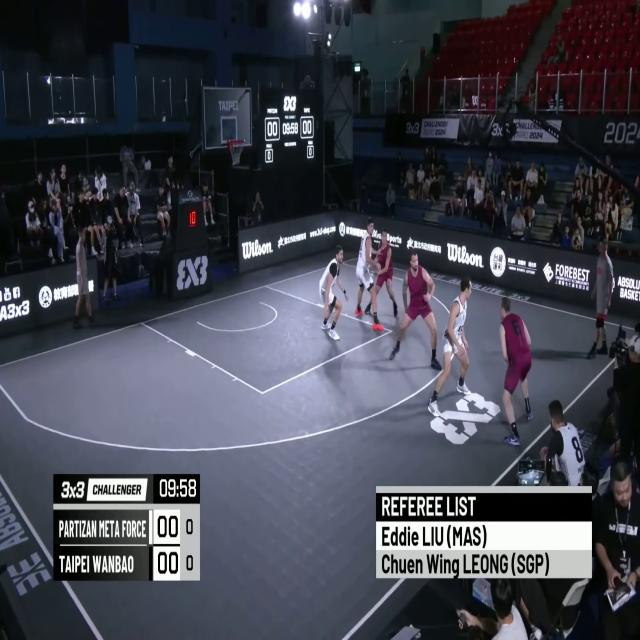hoop: (228, 137, 246, 166)
player: (428, 276, 470, 412), (498, 292, 534, 447), (398, 253, 439, 373), (371, 231, 399, 326), (316, 244, 343, 340), (355, 218, 378, 322)
